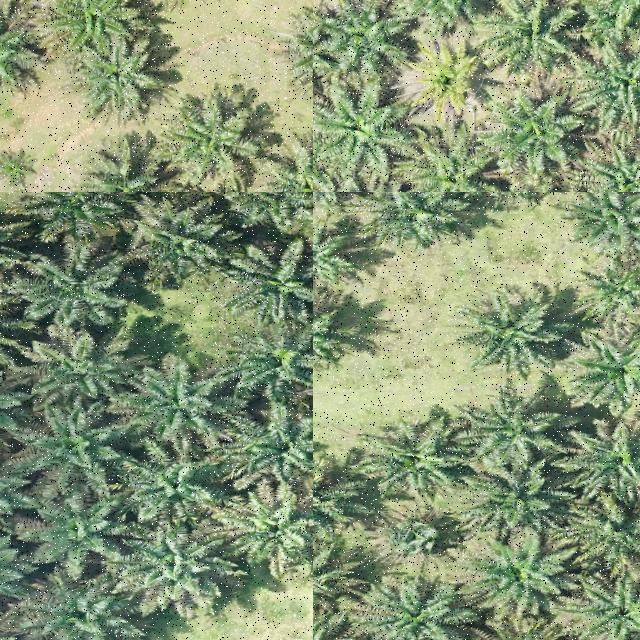Ganoderma: (412, 55, 476, 110)
